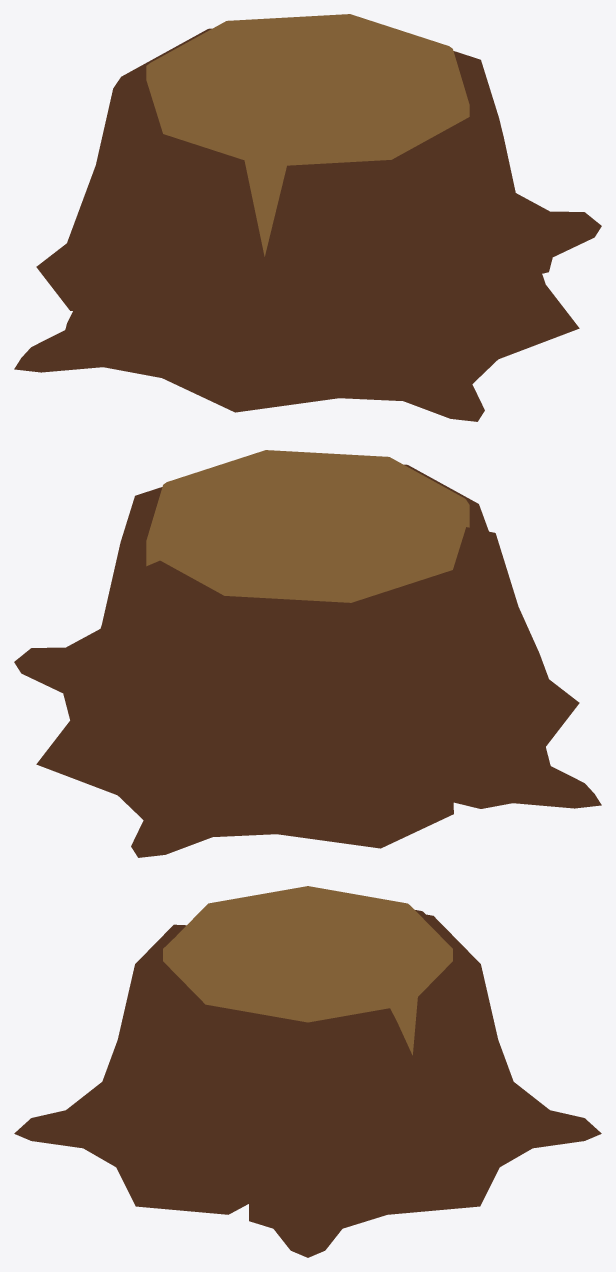
Rendered from stump1.fbx.
The picture shows the model from 3 angles, top to bottom: view 1: azimuth 30°, elevation 25°; view 2: azimuth 150°, elevation 25°; view 3: azimuth 270°, elevation 25°; orthographic projection. The views are drawn at different scales.
Visible parts, largest first — view 1: TreeStump_low.001; view 2: TreeStump_low.001; view 3: TreeStump_low.001.
Boxes of the visible parts, x1,y1,x2,y2 form: TreeStump_low.001: [14, 14, 601, 421]; TreeStump_low.001: [14, 450, 601, 857]; TreeStump_low.001: [14, 886, 601, 1257].
Size of the model in its own units: 340 by 120 by 340.
